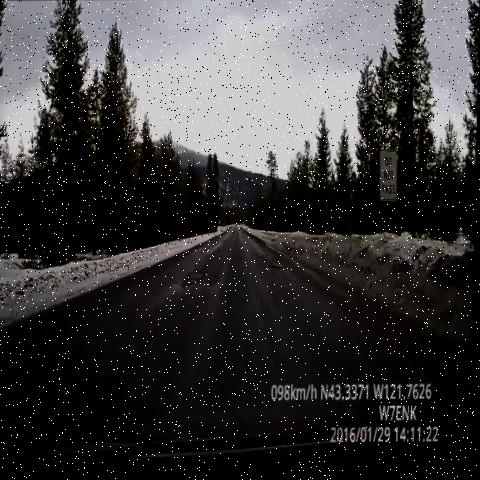pothole: (188, 254, 207, 299)
